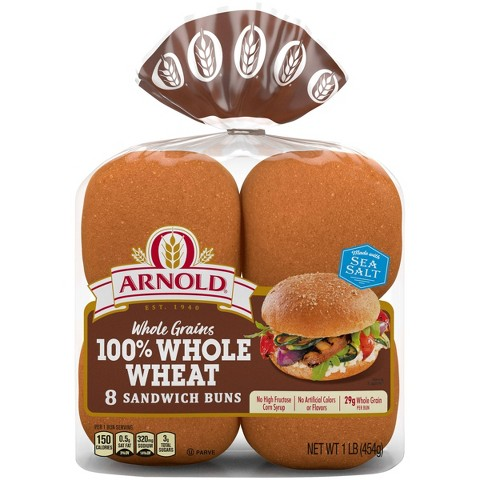hamburger_buns: (84, 11, 416, 480)
